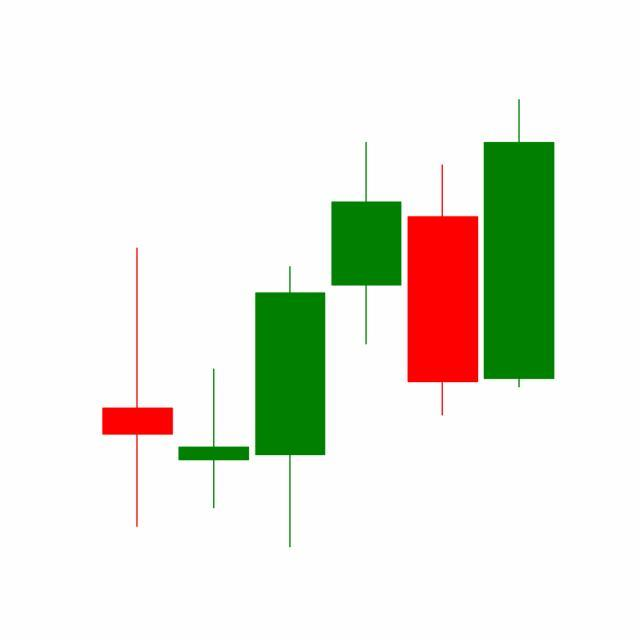Evening Star: (252, 138, 482, 549)
